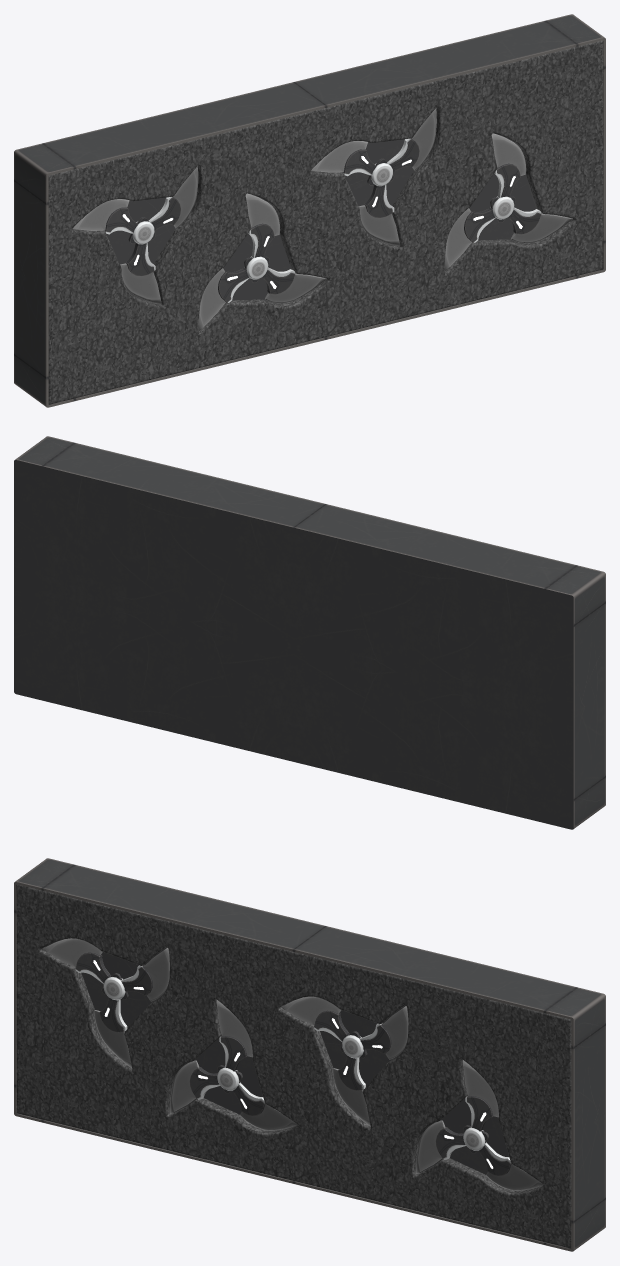
Rendered from MeleeShuriken03Case.FBX.
3 views of the same model, one above another, from view 1: azimuth 30°, elevation 25°; view 2: azimuth 150°, elevation 25°; view 3: azimuth 330°, elevation 25° (orthographic).
Parts seen in each view (by area): view 1: Case, Weapon; view 2: Case; view 3: Case, Weapon.
Boxes of the visible parts, box(x1,y1,x2,y2) form: Case: box(14, 14, 605, 407); Weapon: box(72, 108, 572, 330); Case: box(14, 436, 605, 829); Case: box(14, 858, 605, 1251); Weapon: box(43, 938, 543, 1190).
Size of what is drawn, in the model's own units: 0.9999 by 0.4 by 0.1.
